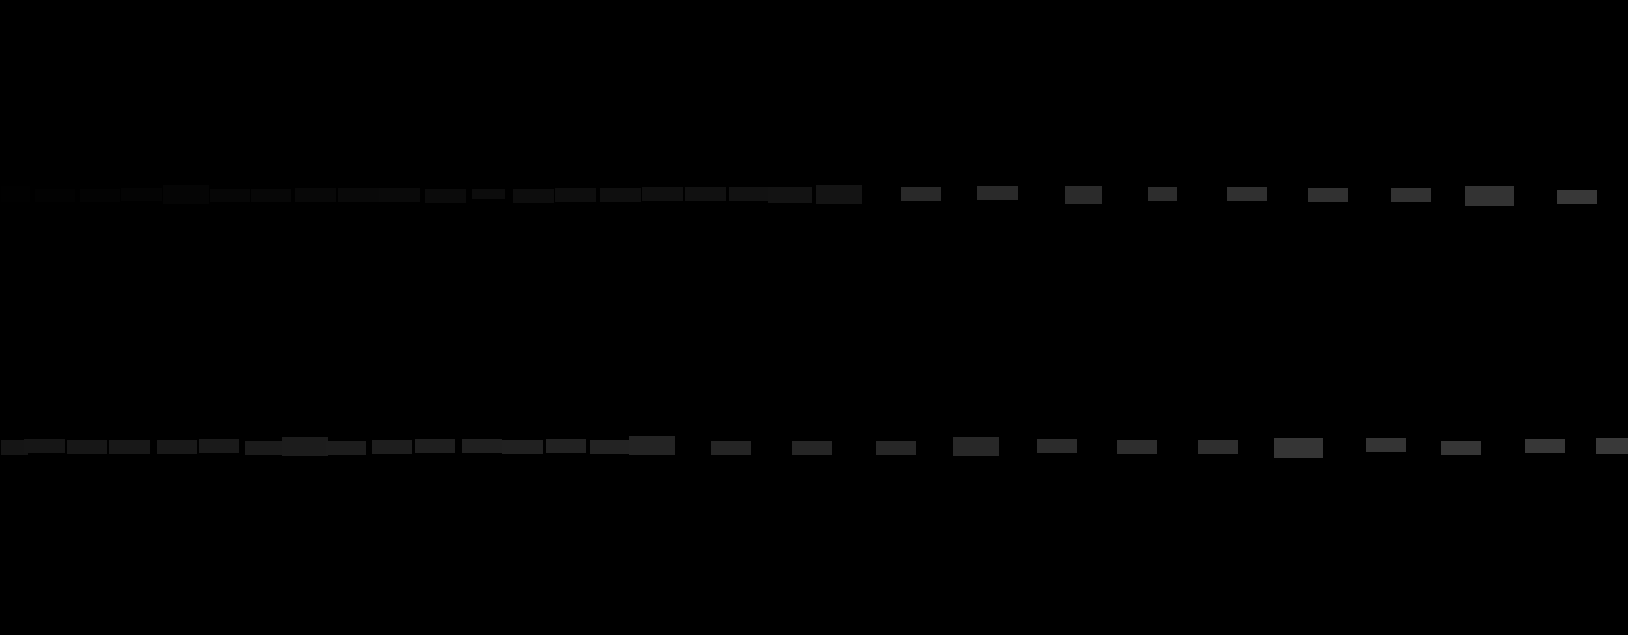light: (1465, 186, 1514, 206), (1274, 438, 1323, 458), (163, 185, 209, 204), (816, 185, 862, 204), (629, 436, 675, 455), (282, 437, 328, 455), (953, 437, 999, 455), (768, 187, 812, 203), (1065, 186, 1102, 204), (295, 188, 336, 202), (379, 188, 420, 202), (425, 189, 466, 203), (513, 189, 554, 203), (642, 187, 683, 201), (729, 187, 770, 201), (24, 439, 65, 453), (501, 440, 543, 454), (338, 188, 379, 202), (555, 188, 596, 202), (600, 188, 641, 202), (685, 187, 726, 201), (109, 440, 150, 454), (157, 440, 197, 454), (326, 441, 367, 455), (372, 440, 412, 454), (590, 440, 630, 454), (977, 186, 1017, 200), (67, 440, 107, 454), (199, 439, 239, 453), (245, 441, 284, 455), (415, 439, 455, 453), (462, 439, 501, 453), (546, 439, 586, 453), (711, 441, 751, 455), (792, 441, 832, 455), (876, 441, 916, 455), (901, 187, 941, 201), (1037, 439, 1077, 453), (1117, 440, 1157, 454), (1198, 440, 1238, 454), (1227, 187, 1267, 201), (1308, 188, 1348, 202), (1391, 188, 1431, 202), (1366, 438, 1406, 452), (1441, 441, 1481, 455), (1525, 439, 1565, 453), (1557, 190, 1597, 204), (80, 189, 120, 202), (121, 188, 162, 201), (210, 189, 250, 202), (1596, 438, 1628, 454), (35, 189, 75, 202), (251, 189, 291, 202), (1, 186, 30, 202), (1148, 187, 1177, 201), (1, 440, 28, 455), (472, 189, 505, 199)
